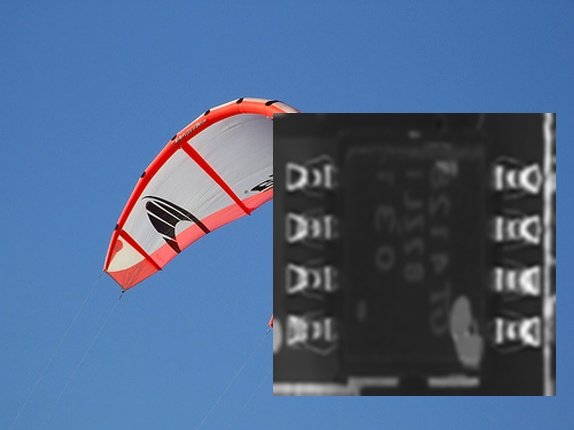PAD: (475, 138, 547, 358), (275, 143, 347, 357)
kite: (106, 98, 383, 352)
